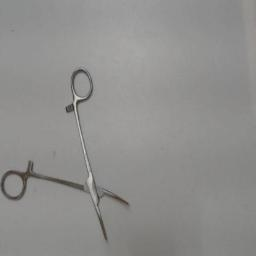Crile Artery Forceps: (1, 66, 137, 244)
